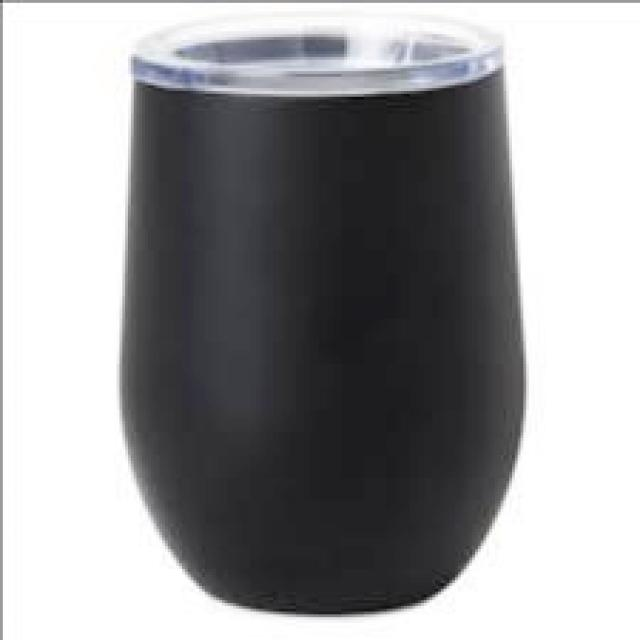bottle: (105, 14, 532, 617)
